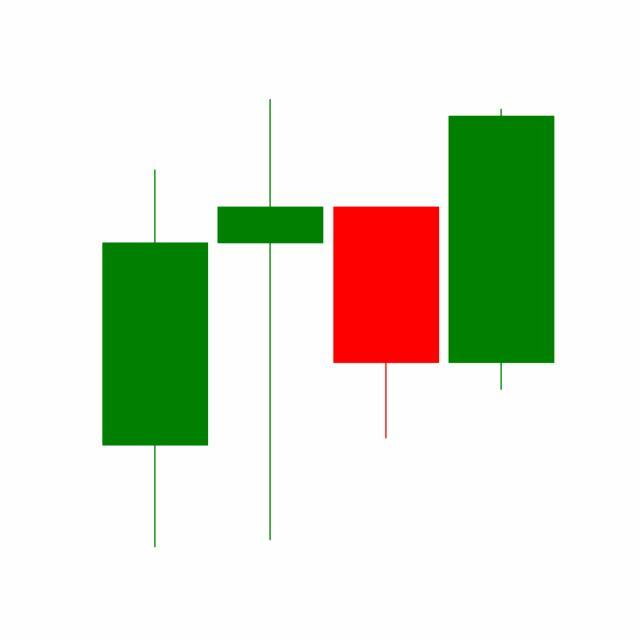Marubozu: (444, 106, 560, 393)
